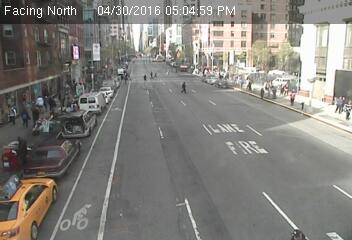neg: (132, 160, 151, 186), (26, 49, 40, 67), (39, 194, 53, 212), (264, 126, 276, 142), (289, 222, 301, 237), (50, 26, 61, 41), (39, 39, 50, 53), (94, 23, 105, 37), (18, 47, 28, 61), (135, 36, 145, 49), (115, 24, 124, 36), (171, 25, 180, 37), (129, 25, 137, 36), (282, 18, 290, 29), (12, 34, 20, 44), (65, 28, 72, 37), (295, 18, 302, 27), (67, 210, 74, 219), (75, 25, 81, 34), (276, 27, 282, 36), (281, 102, 287, 110), (37, 29, 42, 36), (144, 37, 149, 44), (283, 206, 288, 213), (28, 35, 32, 41)
pos: (9, 136, 32, 166), (15, 107, 31, 129), (47, 94, 63, 115), (2, 105, 16, 124), (30, 94, 44, 112), (288, 90, 300, 105), (270, 84, 281, 99), (180, 79, 191, 93), (258, 87, 267, 99), (153, 71, 159, 79), (148, 71, 154, 79), (142, 73, 148, 81)
